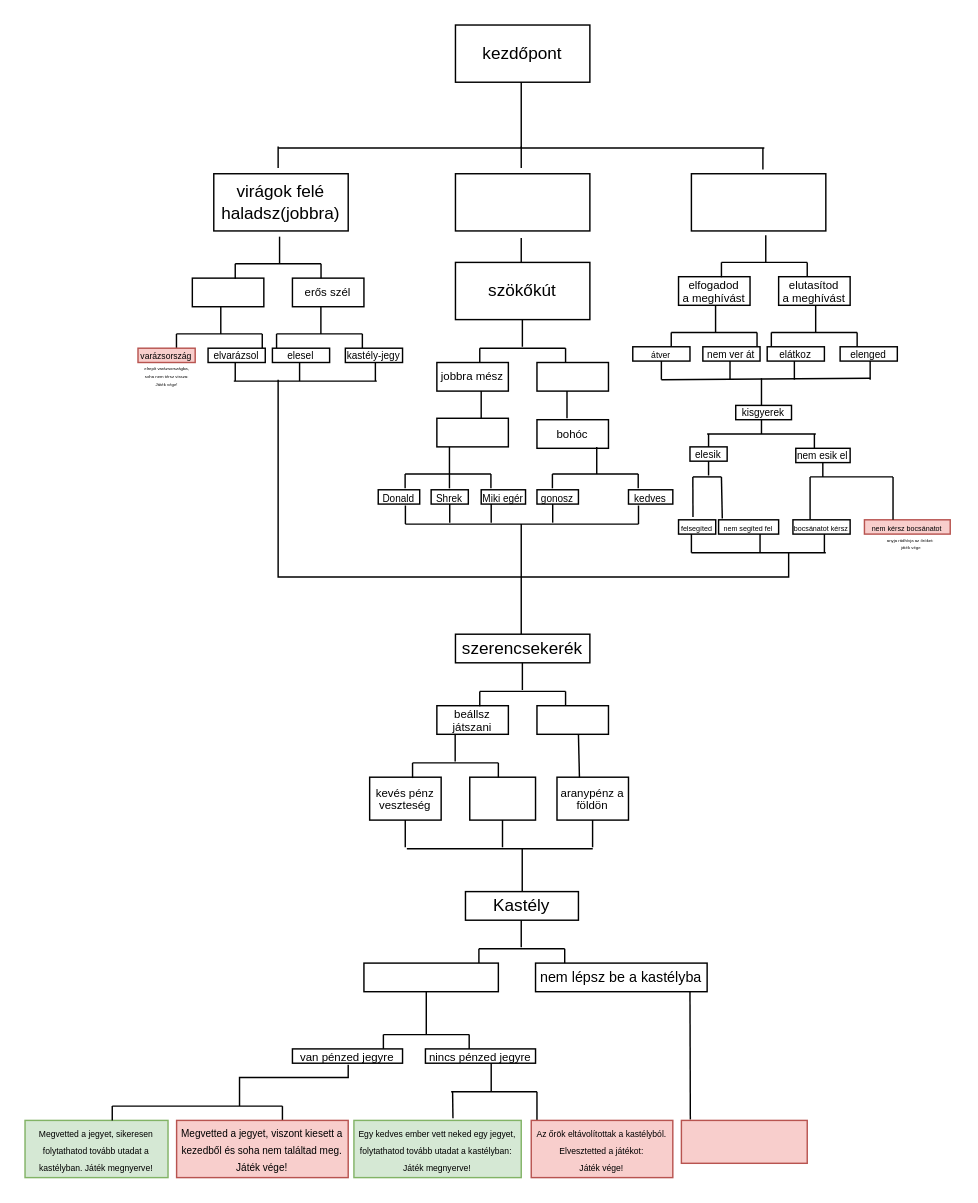
The diagram is 978 pixels wide and 1203 high, and some of its shapes have lost their labels. Here are the shapes that lost their labels. From the top down, the centre of each, then its label:
(522,201): egyenesen
(758,201): Magdi jósnő felé haladsz (balra)
(227,292): varázspóni
(572,376): balra mész
(471,432): fotózkodás
(572,719): kihagyod
(502,798): összes pénzed elveszíted
(430,977): belépsz a kastélyba
(743,1141): Elvesztetted a játékot: Játék vége!
